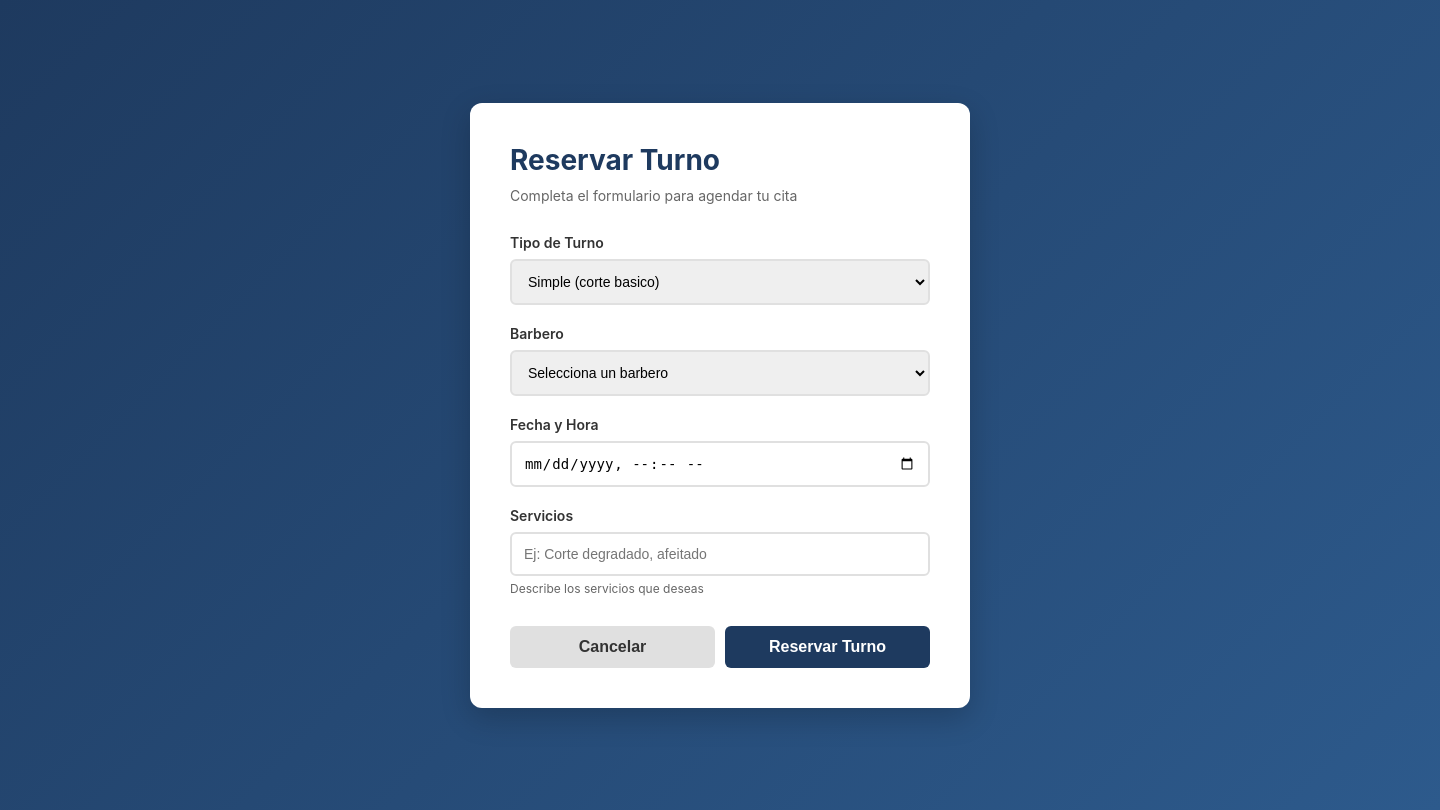
Test case: ReservarTurnoPage › debe cambiar tipo de turno y mostrar/ocultar campo de servicios
This screenshot has width=1440, height=810.
expect the dropdown labelled "Barbero" is shown: met, box [510,350,930,396]
Select "Simple (corte basico)" in the dropdown labelled "Tipo de Turno" at (720, 282), box [510,258,930,304]
expect the field labelled "Servicios" is shown: met, box [510,532,930,576]
Select "Combo (corte + barba + lavado)" in the dropdown labelled "Tipo de Turno" at (720, 282), box [510,258,930,304]
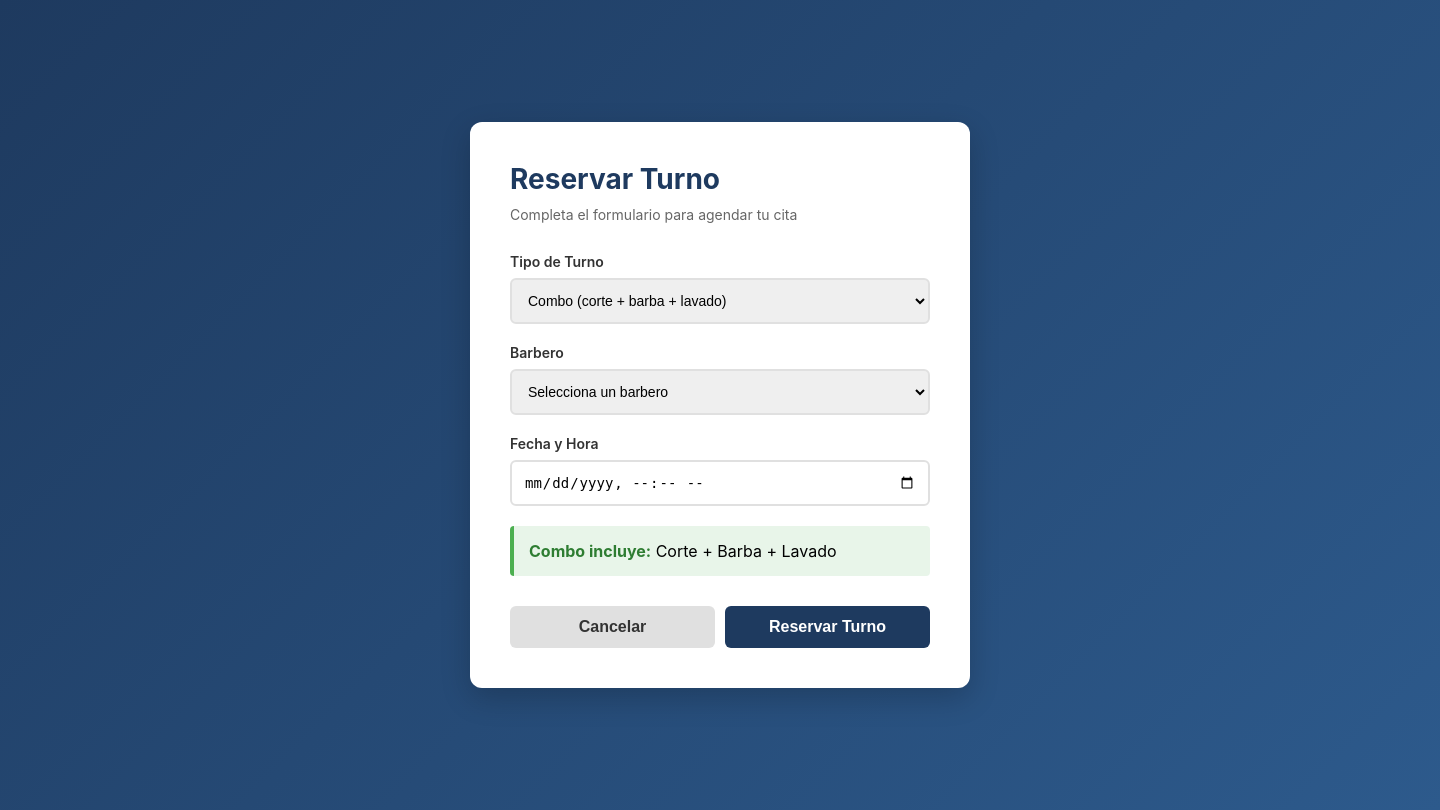
expect the label labelled "Servicios" is gone: met
expect the text "Combo incluye:" is shown: met, box [529,541,651,561]
